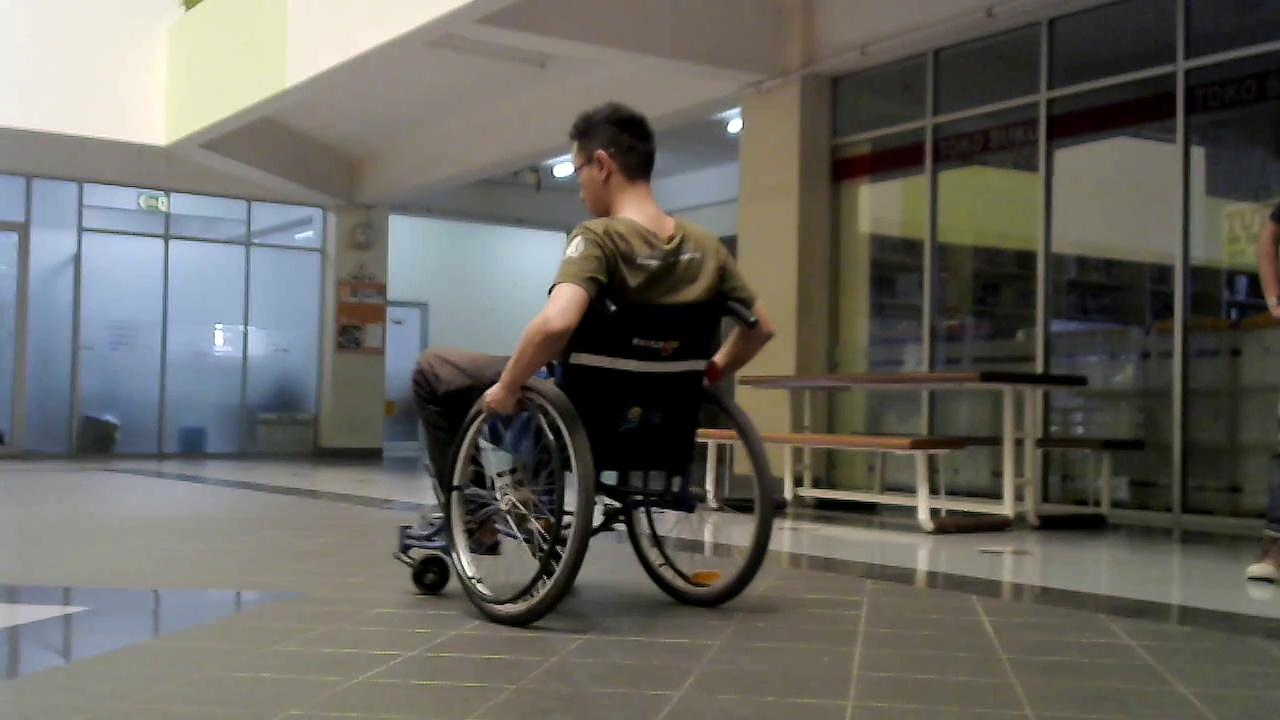person: (411, 101, 778, 513)
wheelchair: (390, 293, 781, 625)
